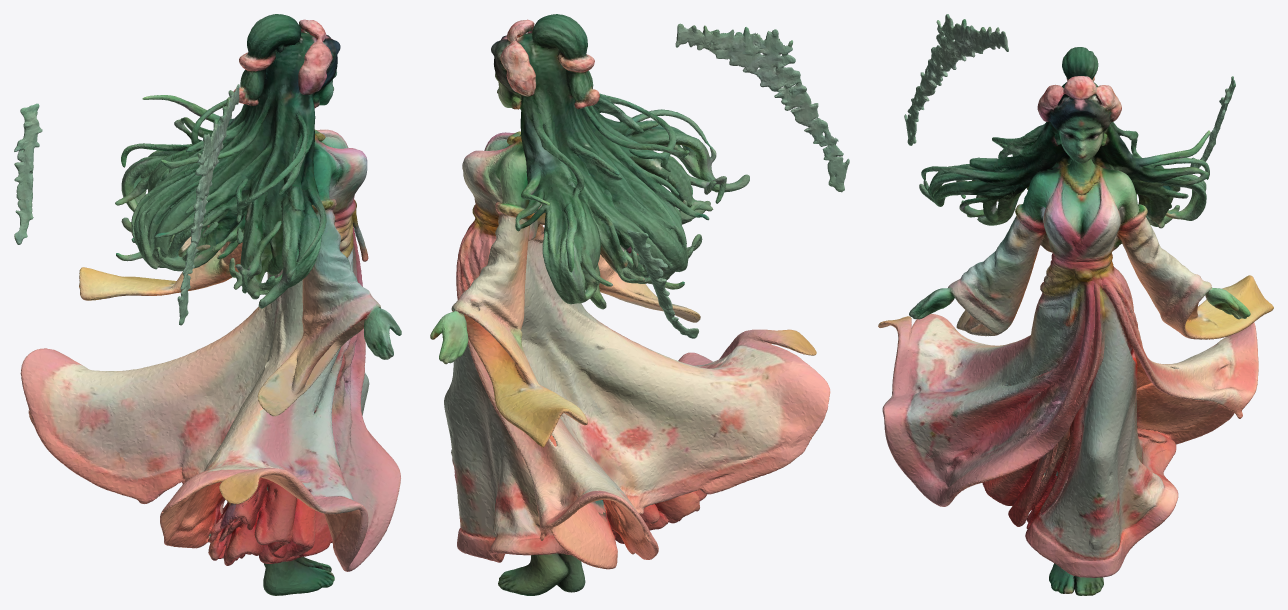
Rendered from modelo34.glb.
3 views of the same model, side by side, from view 1: azimuth 30°, elevation 25°; view 2: azimuth 150°, elevation 25°; view 3: azimuth 270°, elevation 25° (orthographic). The views are drawn at different scales.
Visible parts, largest first — view 1: tripo_node_5377e309-1f1b-4207-ac11-274b3576145c; view 2: tripo_node_5377e309-1f1b-4207-ac11-274b3576145c; view 3: tripo_node_5377e309-1f1b-4207-ac11-274b3576145c.
Part boxes in pixels (x1,y1,x2,y2): tripo_node_5377e309-1f1b-4207-ac11-274b3576145c: (14, 14, 401, 595); tripo_node_5377e309-1f1b-4207-ac11-274b3576145c: (430, 14, 849, 595); tripo_node_5377e309-1f1b-4207-ac11-274b3576145c: (878, 14, 1273, 595).
Bounding box in the file's own units: 0.553 × 1 × 0.6844.
Materials: 1 (1 with a texture image).
